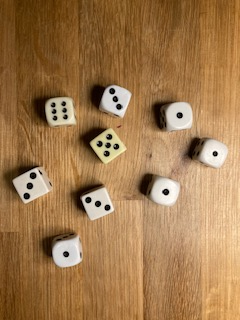five: (88, 126, 129, 166)
one: (190, 137, 230, 170), (144, 173, 182, 207), (158, 100, 194, 134), (51, 232, 84, 269)
six: (43, 97, 79, 128)
three: (11, 166, 55, 204), (80, 185, 117, 221), (98, 84, 133, 119)
